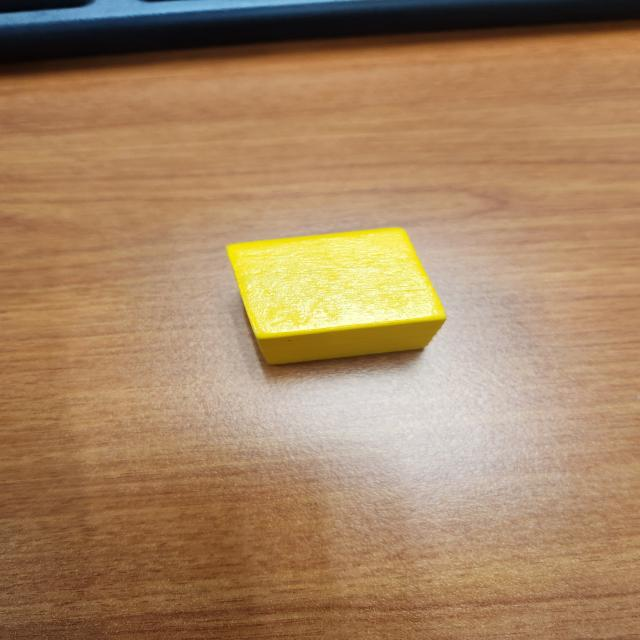yellow: (223, 226, 450, 367)
